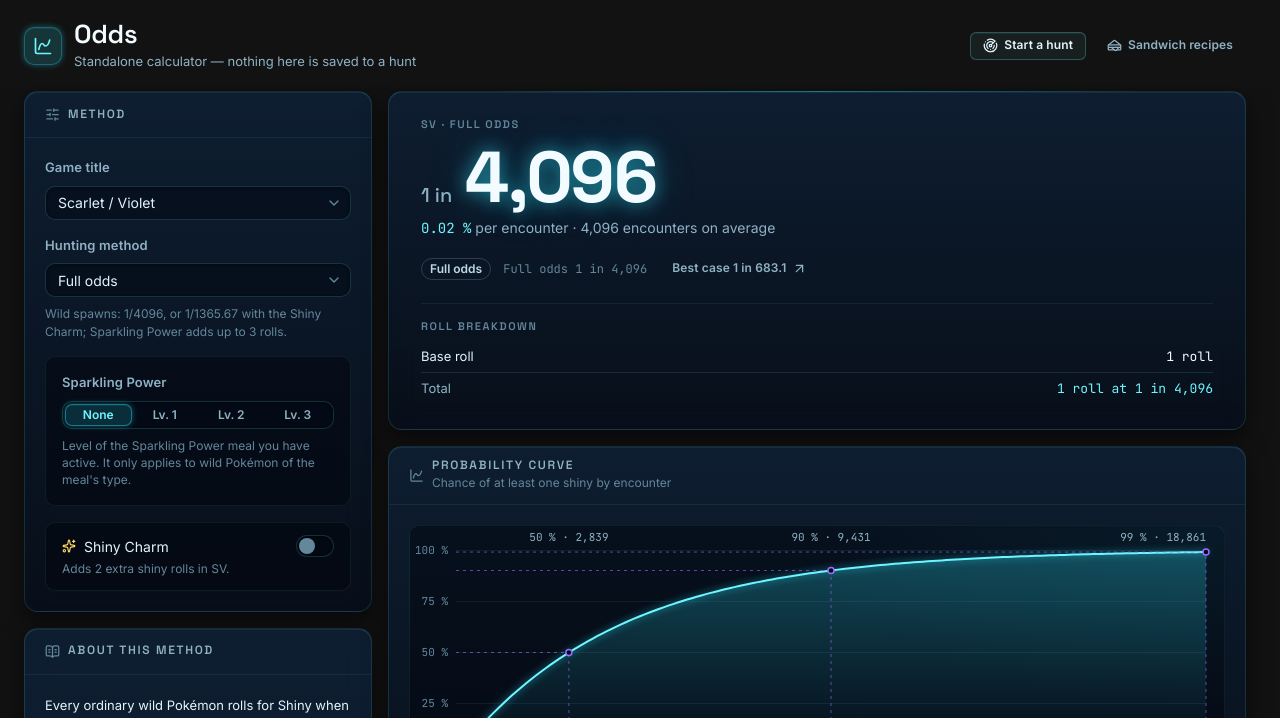
Scenario: OddsEngine view › works as a standalone calculator without an active hunt
Expected: the text "Standalone calculator — nothing here is saved to a hunt" is shown, 74,52 -> 416,71
Expected: the text "4,096" is shown, 464,141 -> 657,213
Click the switch named "shiny charm" at (315, 546), box 296,535 -> 334,557
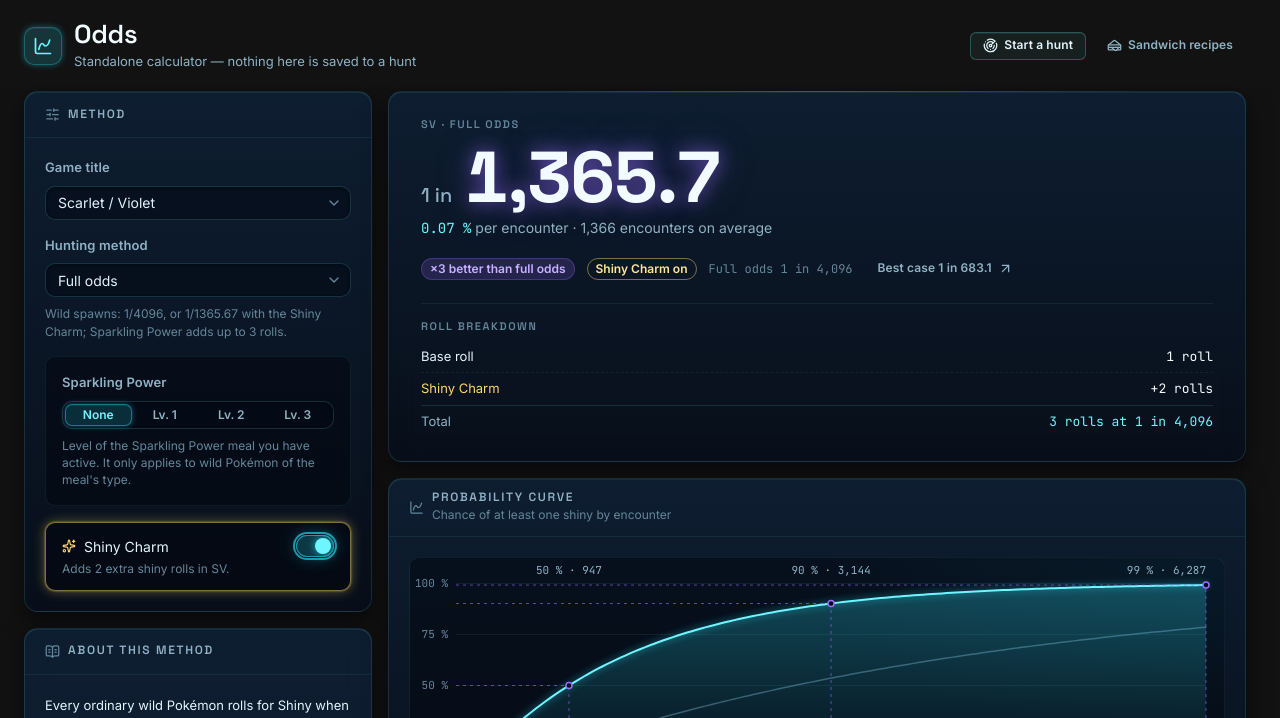
Expected: the text "1,365.7" is shown, 464,141 -> 720,213
Expected: the text "×3 better than full odds" is shown, 421,258 -> 574,280
Expected: the text "+2 rolls" is shown, 1151,379 -> 1213,398
